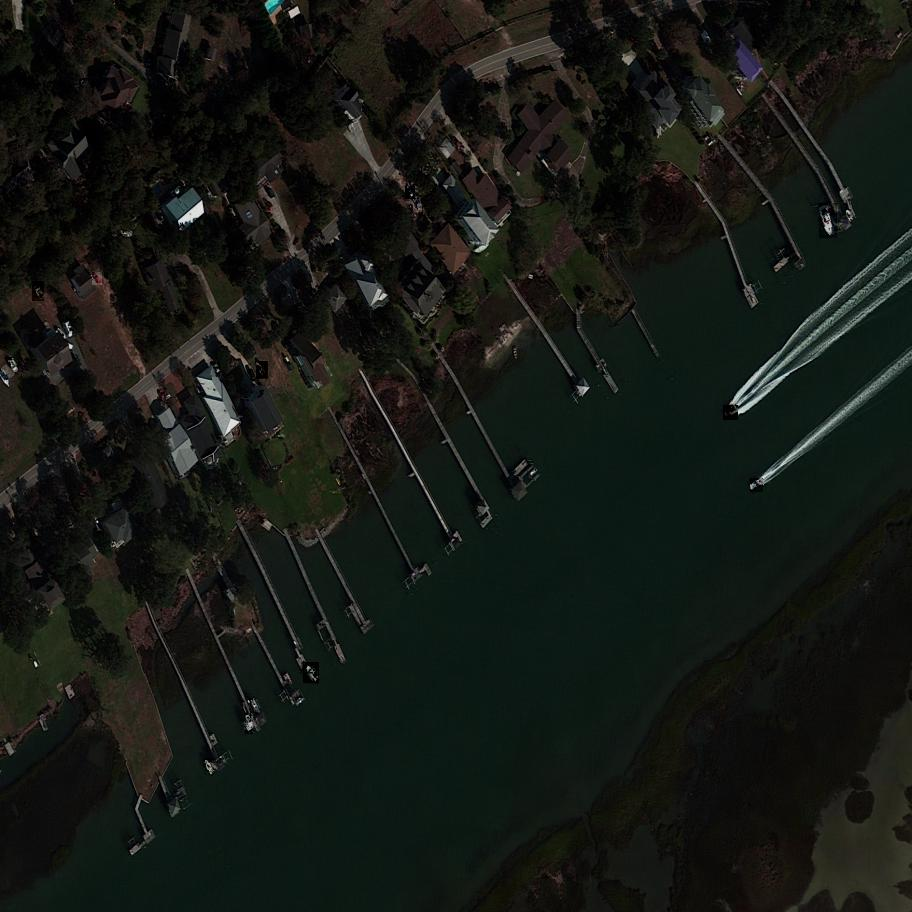ship: (818, 203, 838, 239), (301, 663, 321, 685), (32, 281, 47, 301), (255, 361, 270, 379), (724, 406, 739, 421), (204, 758, 217, 775), (748, 479, 765, 492), (8, 357, 20, 375), (245, 713, 254, 733)
small-vehicle: (413, 197, 424, 213), (92, 272, 104, 286), (404, 187, 416, 200), (212, 362, 221, 377), (148, 53, 152, 68), (161, 391, 165, 404)
